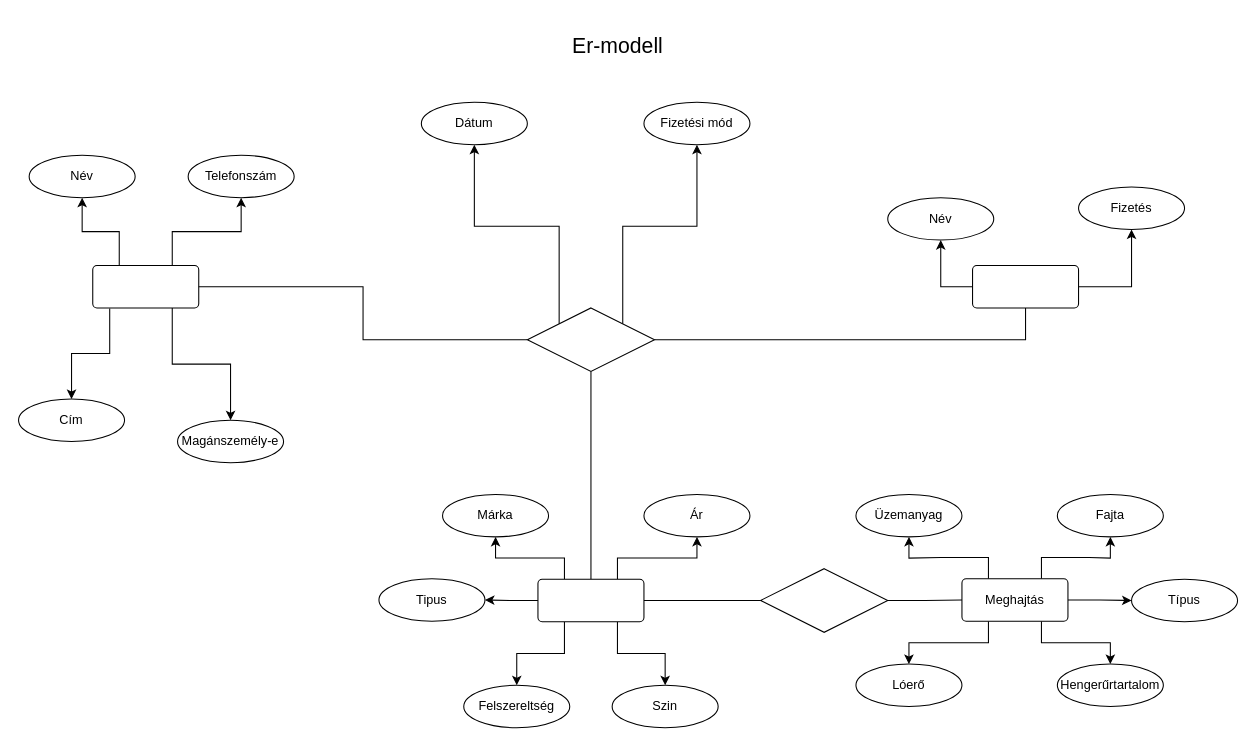
Some shapes in this 1256 by 746 pixel diagram are drawn without their labels. The shapes that lost their labels are listed below. From the top down, each one's centre as x and y in pixels, then its label:
At (x=145, y=286): "Vevő".
At (x=1025, y=286): "Üzletkötő".
At (x=590, y=339): "Vétel".
At (x=590, y=600): "Auto".
At (x=823, y=600): "Van".
